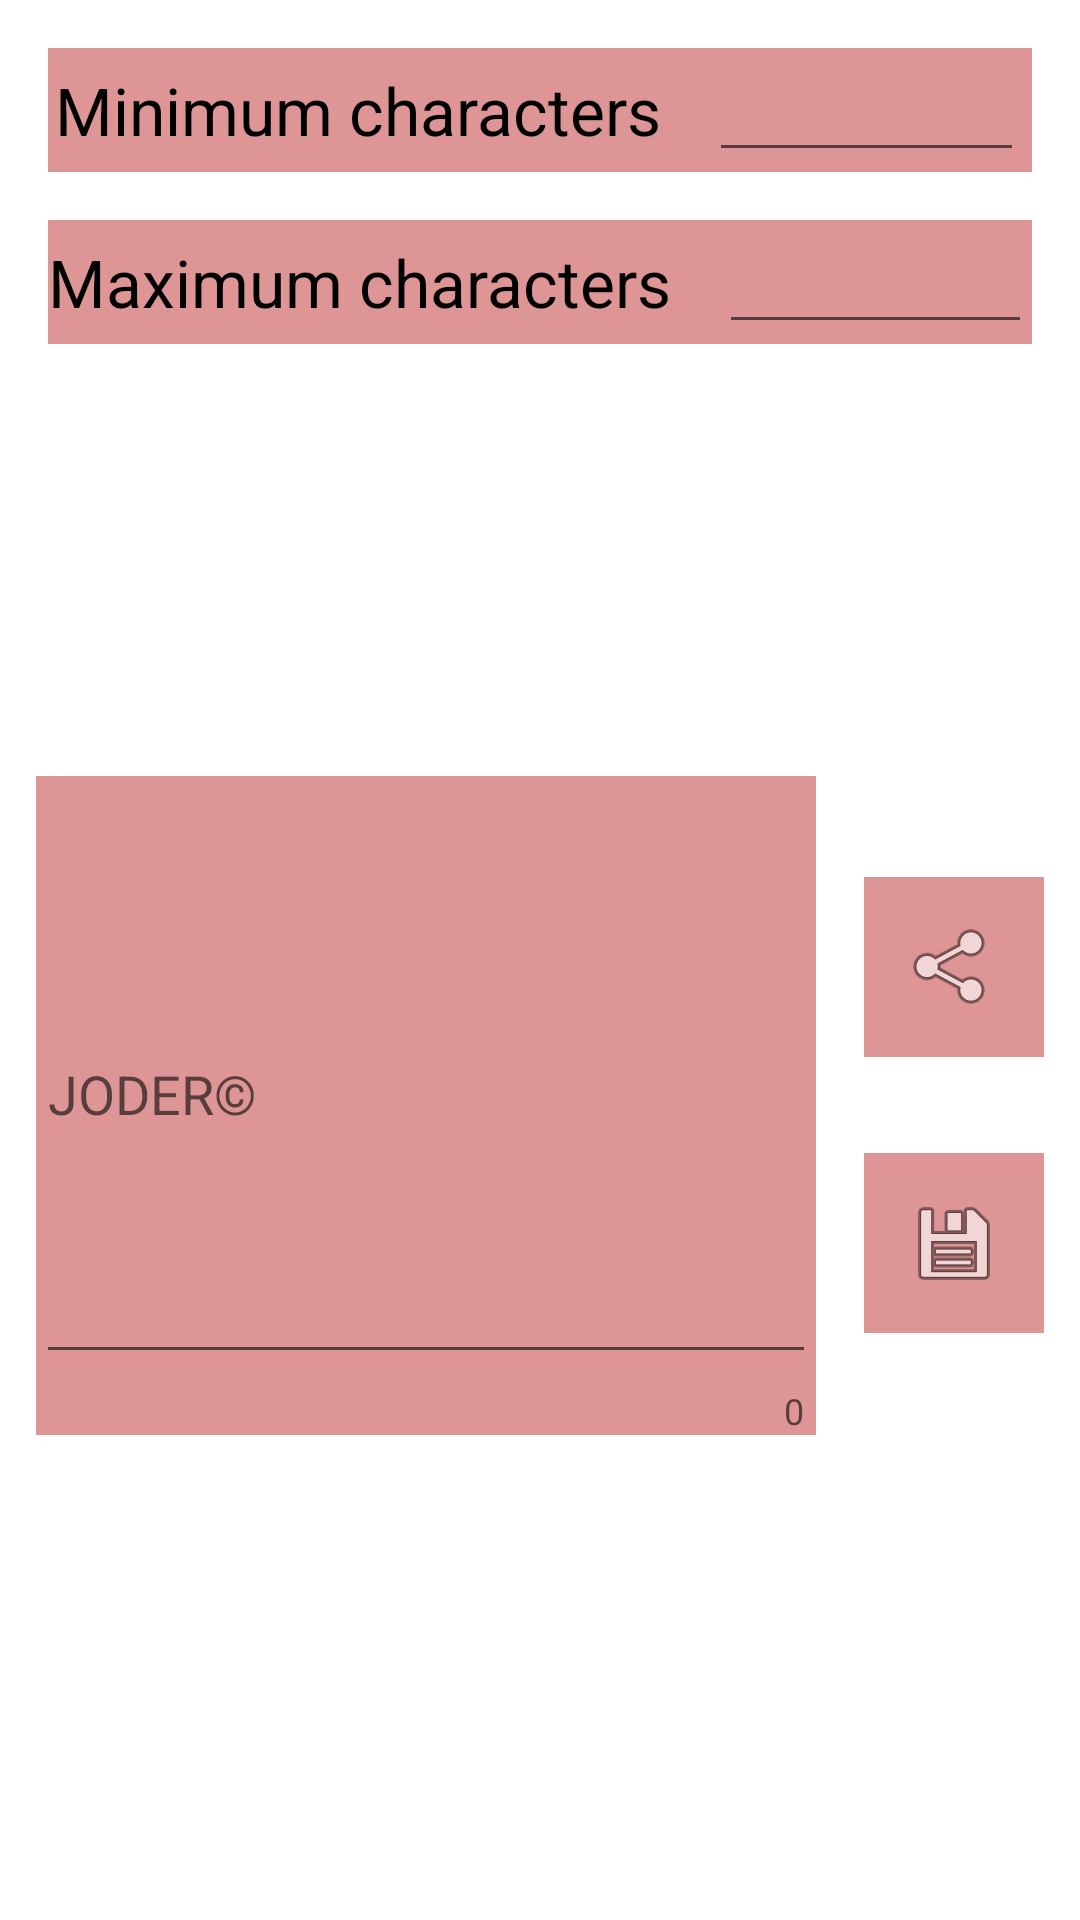

Named icons in this screenshot (1080px x 1920px) and their centers, [x,y]:
save: [954,1243]
share: [954,967]
